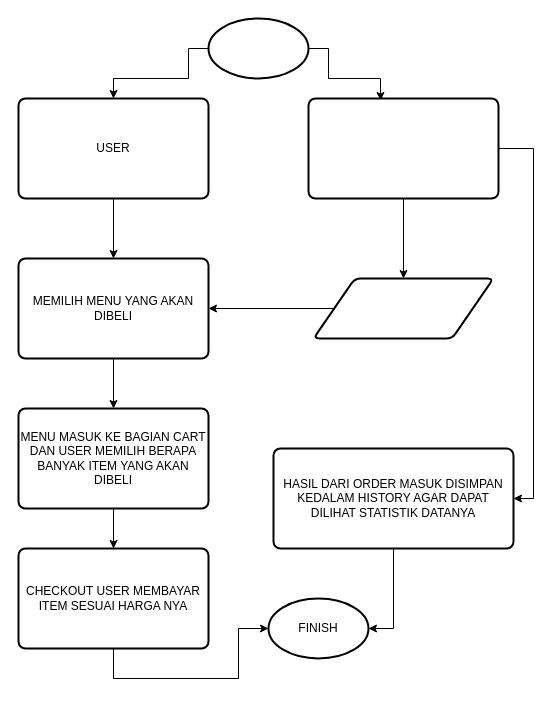
Image size: 559x704. Some labels were removed from this diagram. Each missing label, with the centre of its shape:
"ADMIN" belongs at point 403,148.
"INPUT DAFTAR MENU" belongs at point 403,308.
"START" belongs at point 258,48.
